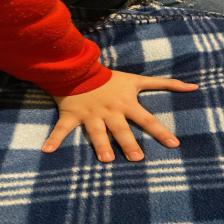five: (42, 70, 196, 166)
